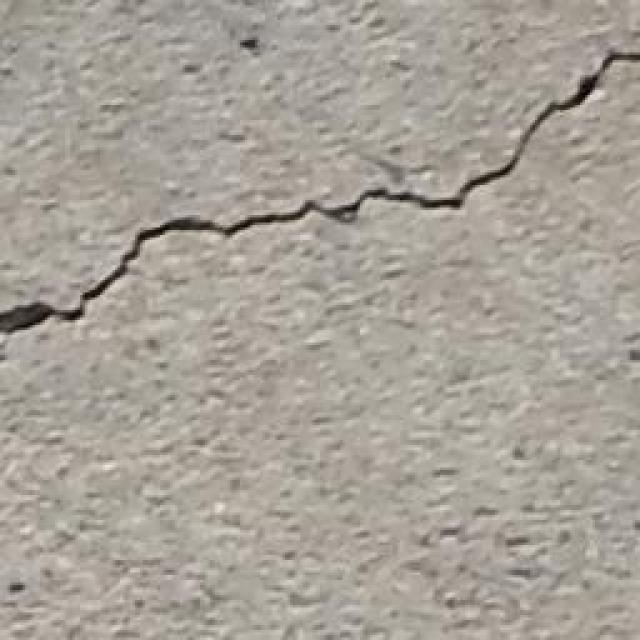concrete-crack: (0, 46, 640, 347)
